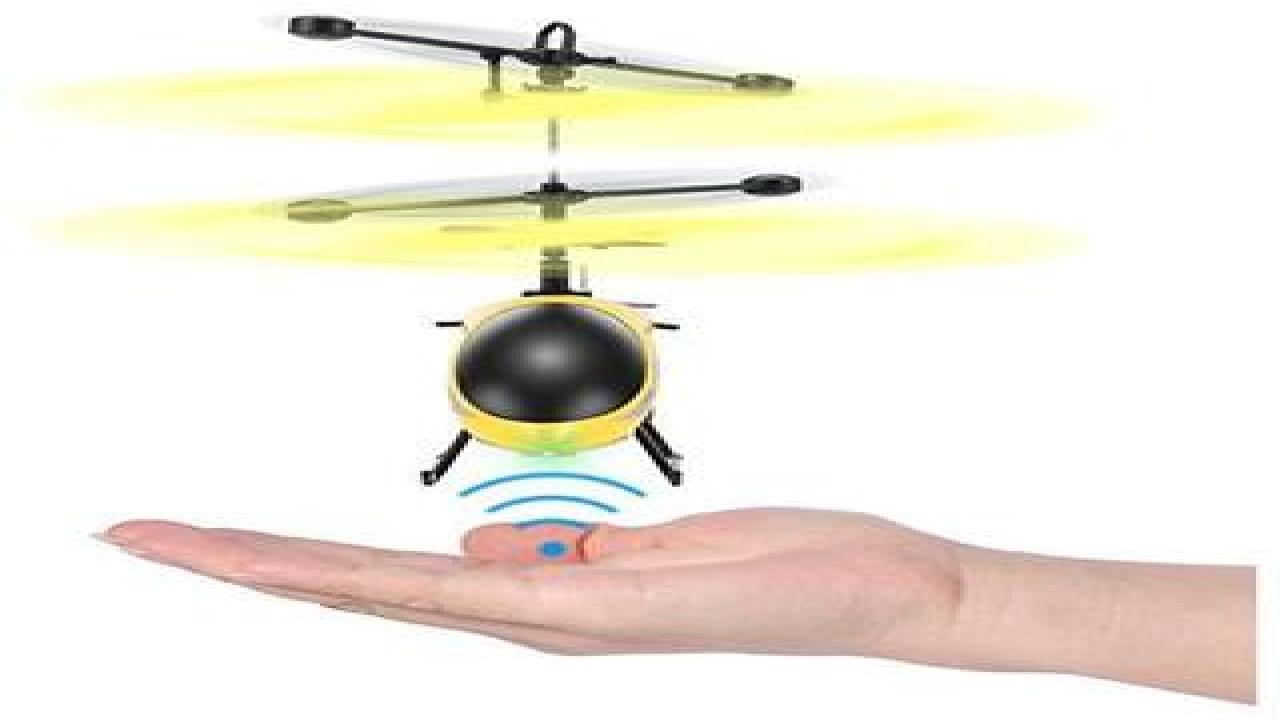Helicopter: (0, 8, 1135, 495)
